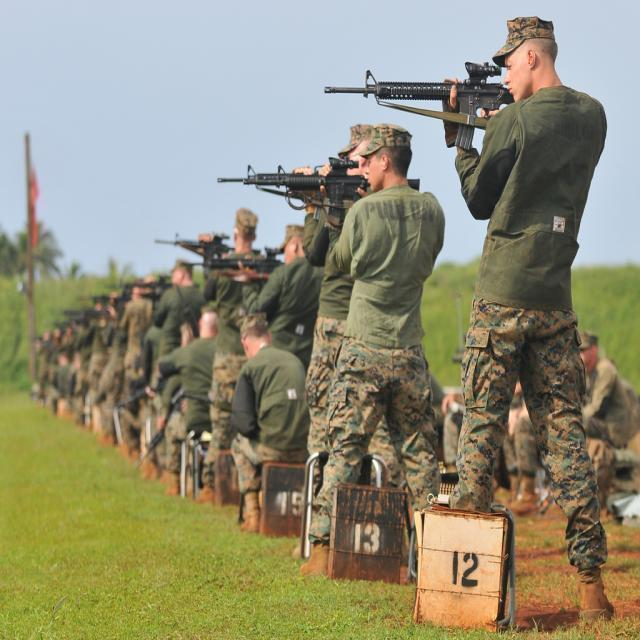Rifle: (320, 56, 518, 156), (213, 150, 420, 232), (178, 241, 292, 283)
